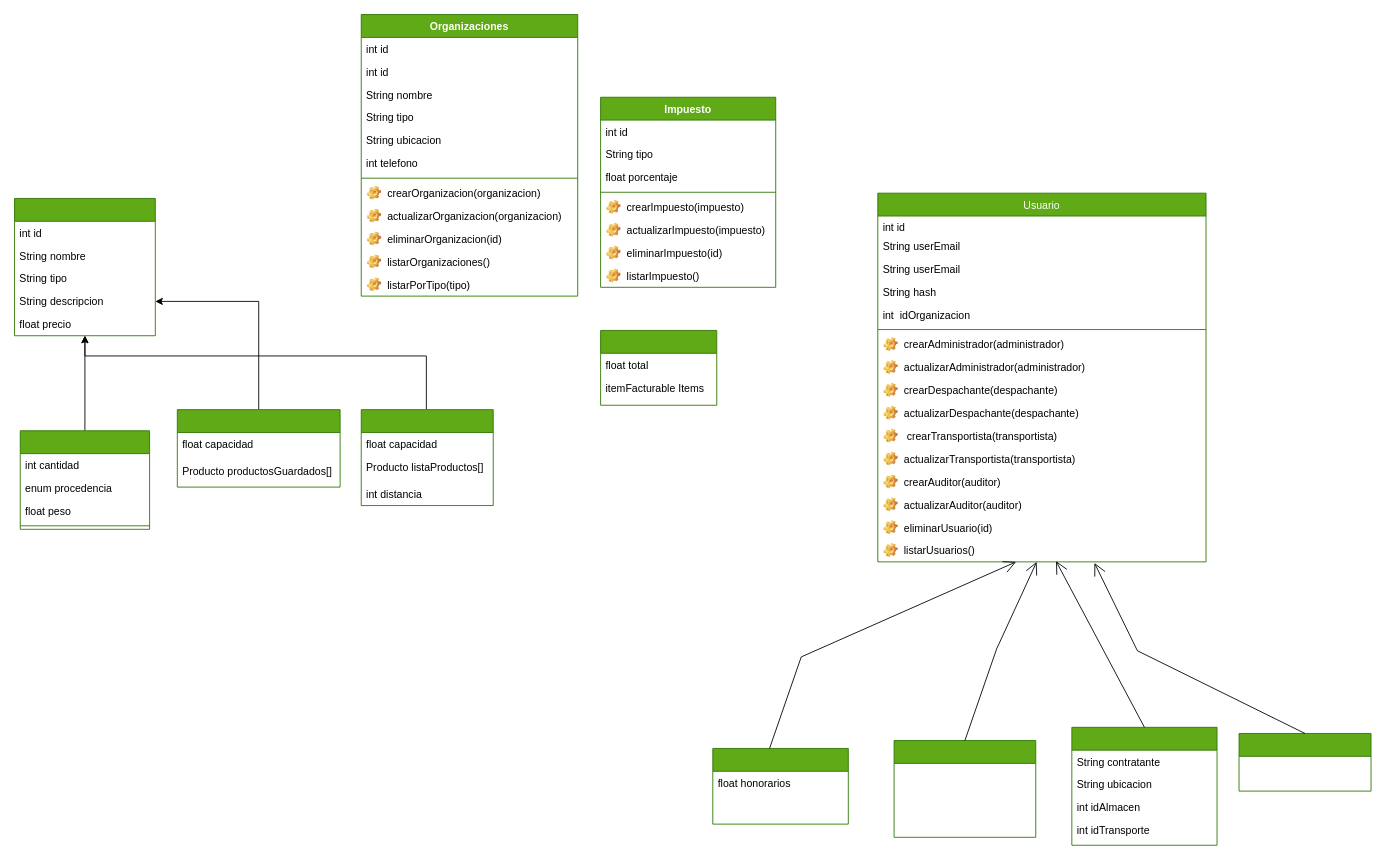
This 1385x860 diagram has some shape labels left out. Each missing label, with the box of its shape:
Administrador: (1238, 733, 1371, 791)
Almacenamiento: (176, 409, 340, 487)
Auditores: (893, 740, 1036, 837)
Despachante: (712, 748, 848, 824)
itemFacturable: (14, 198, 155, 336)
Presupuesto: (600, 330, 717, 405)
Producto: (19, 430, 150, 529)
Transporte: (360, 409, 493, 506)
Transportistas: (1071, 726, 1217, 845)
